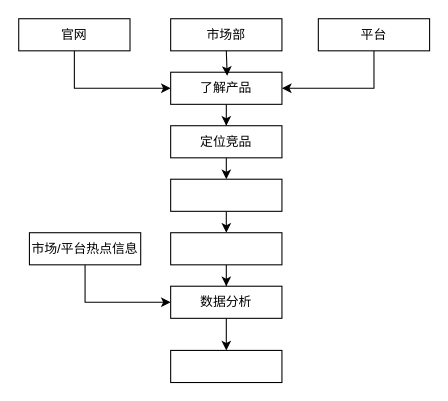
Image size: 448x401. Some labels were removed from this diagram. Here are the shapes that lost their labels. From the top down, the centre of each, then its label:
(226,194): 做竞品分析
(226,248): 对竞品监控
(226,366): 明确行动指南
